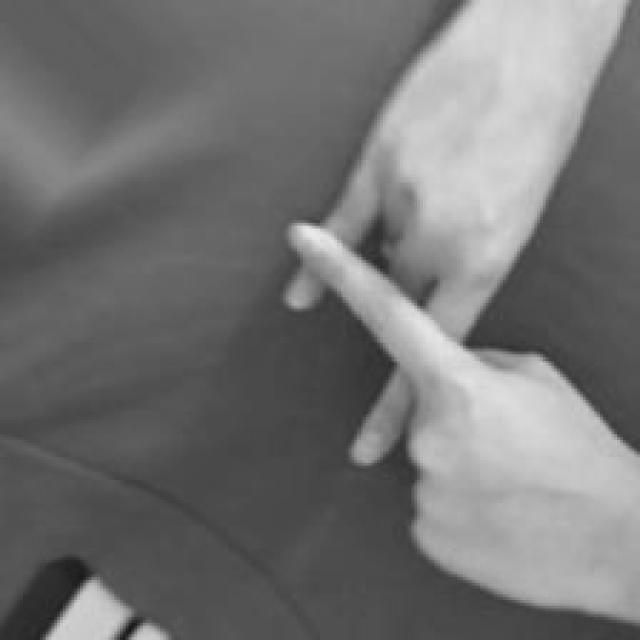H: (280, 0, 640, 640)
